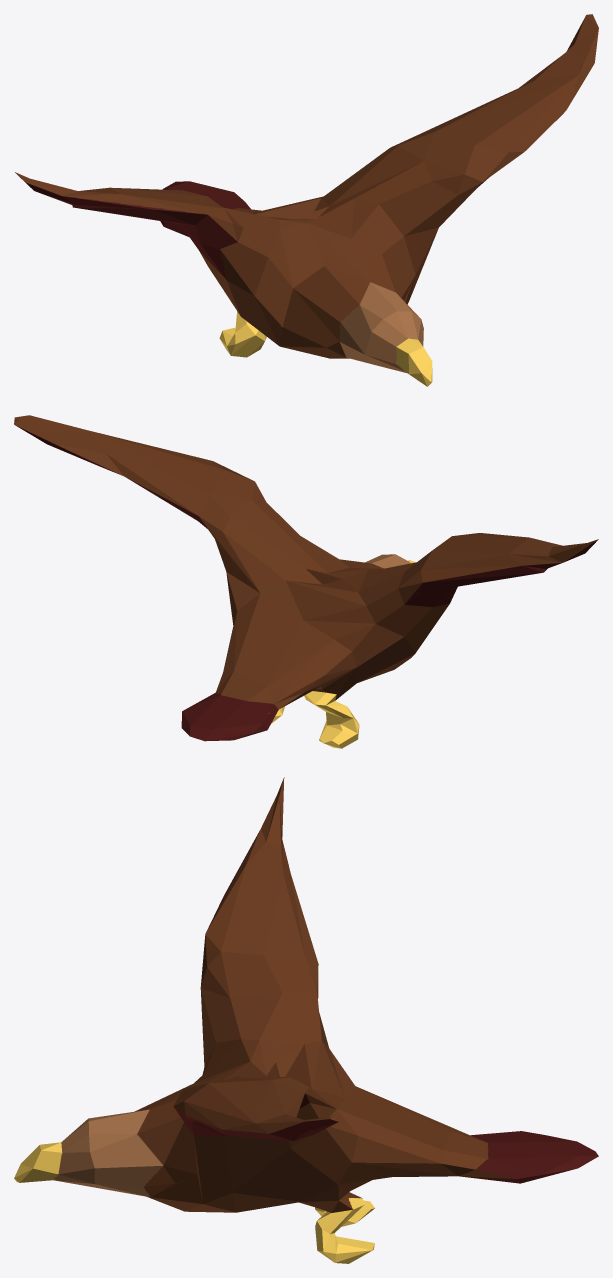
File: aguili_000001.obj
3 views of the same model, one above another, from view 1: azimuth 30°, elevation 25°; view 2: azimuth 150°, elevation 25°; view 3: azimuth 270°, elevation 25° (orthographic). The views are drawn at different scales.
Parts seen in each view (by area): view 1: aguila.001_Cube.001; view 2: aguila.001_Cube.001; view 3: aguila.001_Cube.001.
Part boxes in pixels (x1,y1,x2,y2): aguila.001_Cube.001: [15, 14, 598, 386]; aguila.001_Cube.001: [14, 415, 598, 748]; aguila.001_Cube.001: [14, 777, 598, 1263].
Bounding box in the file's own units: 77.4 × 32.37 × 56.5.
Materials: 1 (1 with a texture image).
